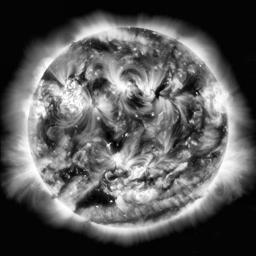solar flares: (51, 84, 87, 115), (111, 182, 153, 206), (207, 87, 223, 121), (114, 81, 133, 99), (140, 84, 156, 103), (108, 151, 123, 167)
sunspots: (77, 185, 110, 208), (171, 118, 194, 146), (87, 39, 118, 57), (100, 123, 121, 149), (183, 71, 202, 97), (57, 165, 88, 178), (68, 128, 81, 156), (43, 126, 54, 149), (93, 79, 106, 89)
